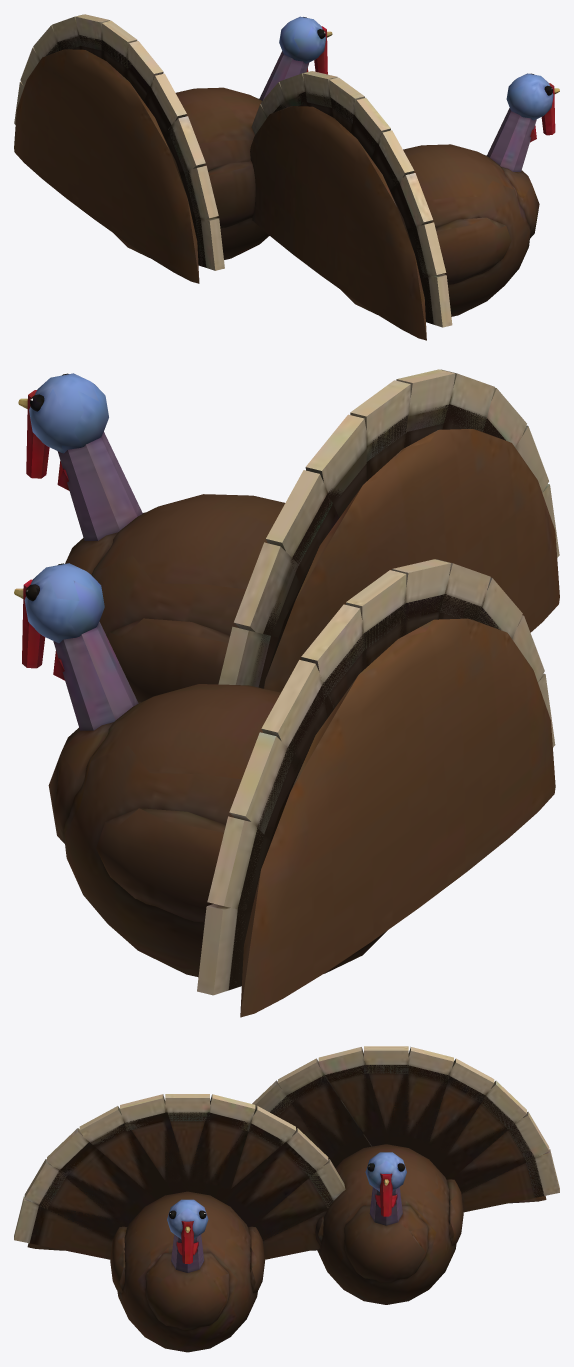
Rendered from pavos.glb.
3 views of the same model, one above another, from view 1: azimuth 30°, elevation 25°; view 2: azimuth 150°, elevation 25°; view 3: azimuth 270°, elevation 25° (orthographic). The views are drawn at different scales.
Parts seen in each view (by area): view 1: pavos; view 2: pavos; view 3: pavos.
Part boxes in pixels (bbox=[...]): pavos: bbox=[14, 14, 559, 340]; pavos: bbox=[14, 369, 559, 1017]; pavos: bbox=[14, 1046, 559, 1352].
Bounding box in the file's own units: 1.09 × 0.73 × 1.7.
Materials: 1 (1 with a texture image).
